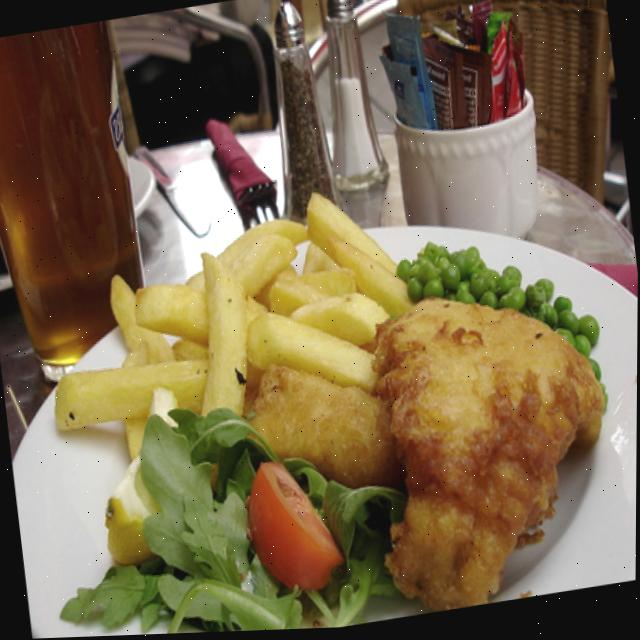炸货点心: (163, 244, 618, 606)
熟制海鲜: (163, 244, 618, 606)
